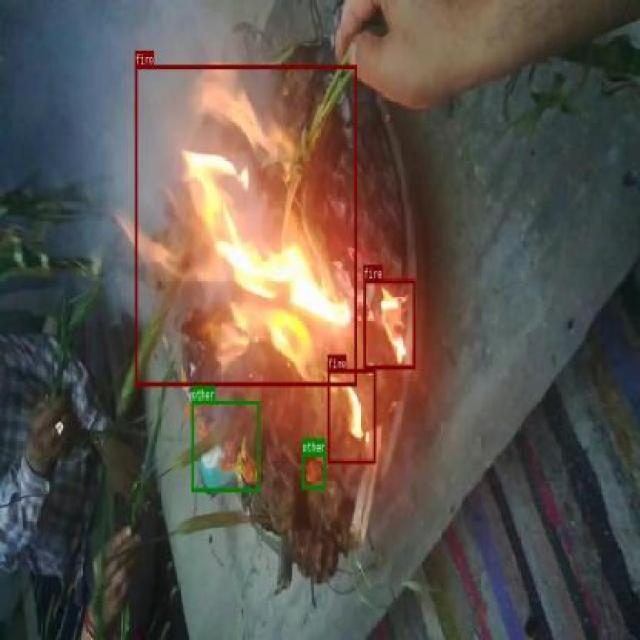Fire: (134, 63, 356, 386), (362, 277, 416, 368), (328, 368, 376, 462)
